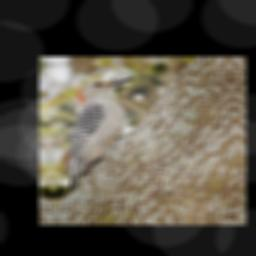Woodpecker: (45, 72, 149, 200)
